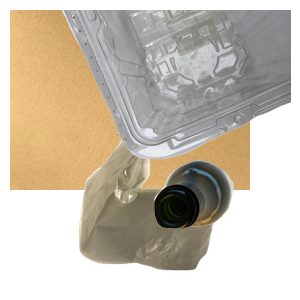cardboard: (10, 10, 250, 190)
glass: (151, 158, 300, 300)
plastic: (60, 10, 300, 162)
trash: (76, 124, 287, 300)
